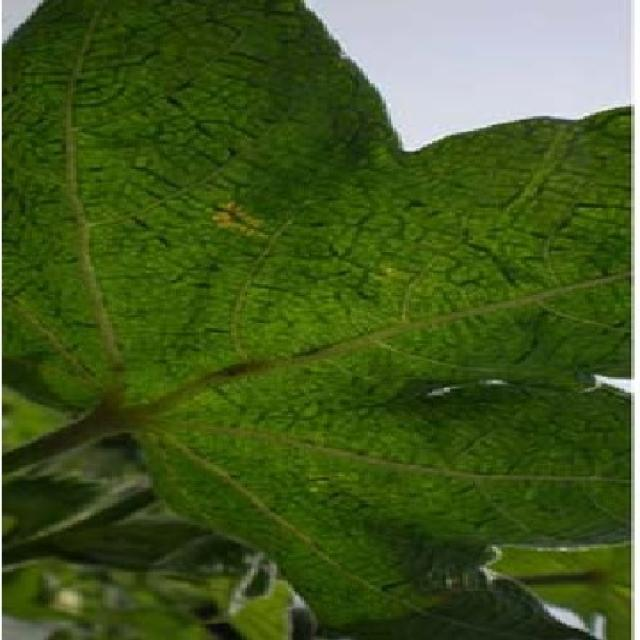Leaf Curl Virus: (15, 39, 608, 524)
